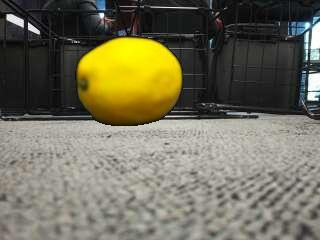lemon: (79, 36, 182, 125)
